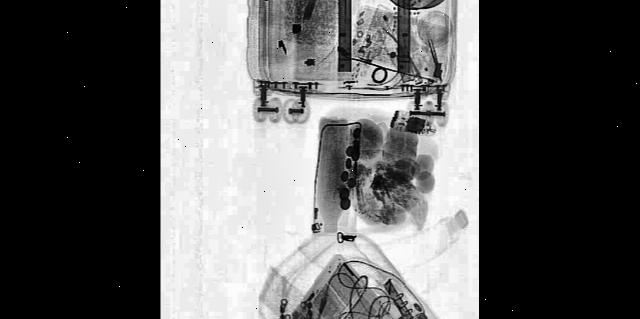Knife: (424, 33, 445, 88)
